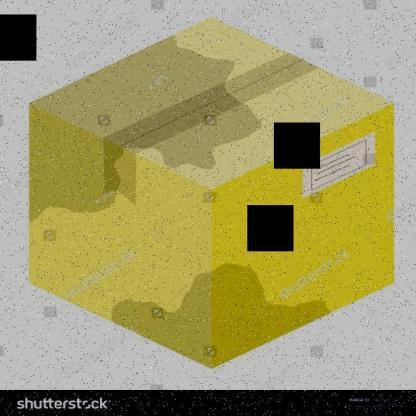-: (24, 16, 399, 369)
